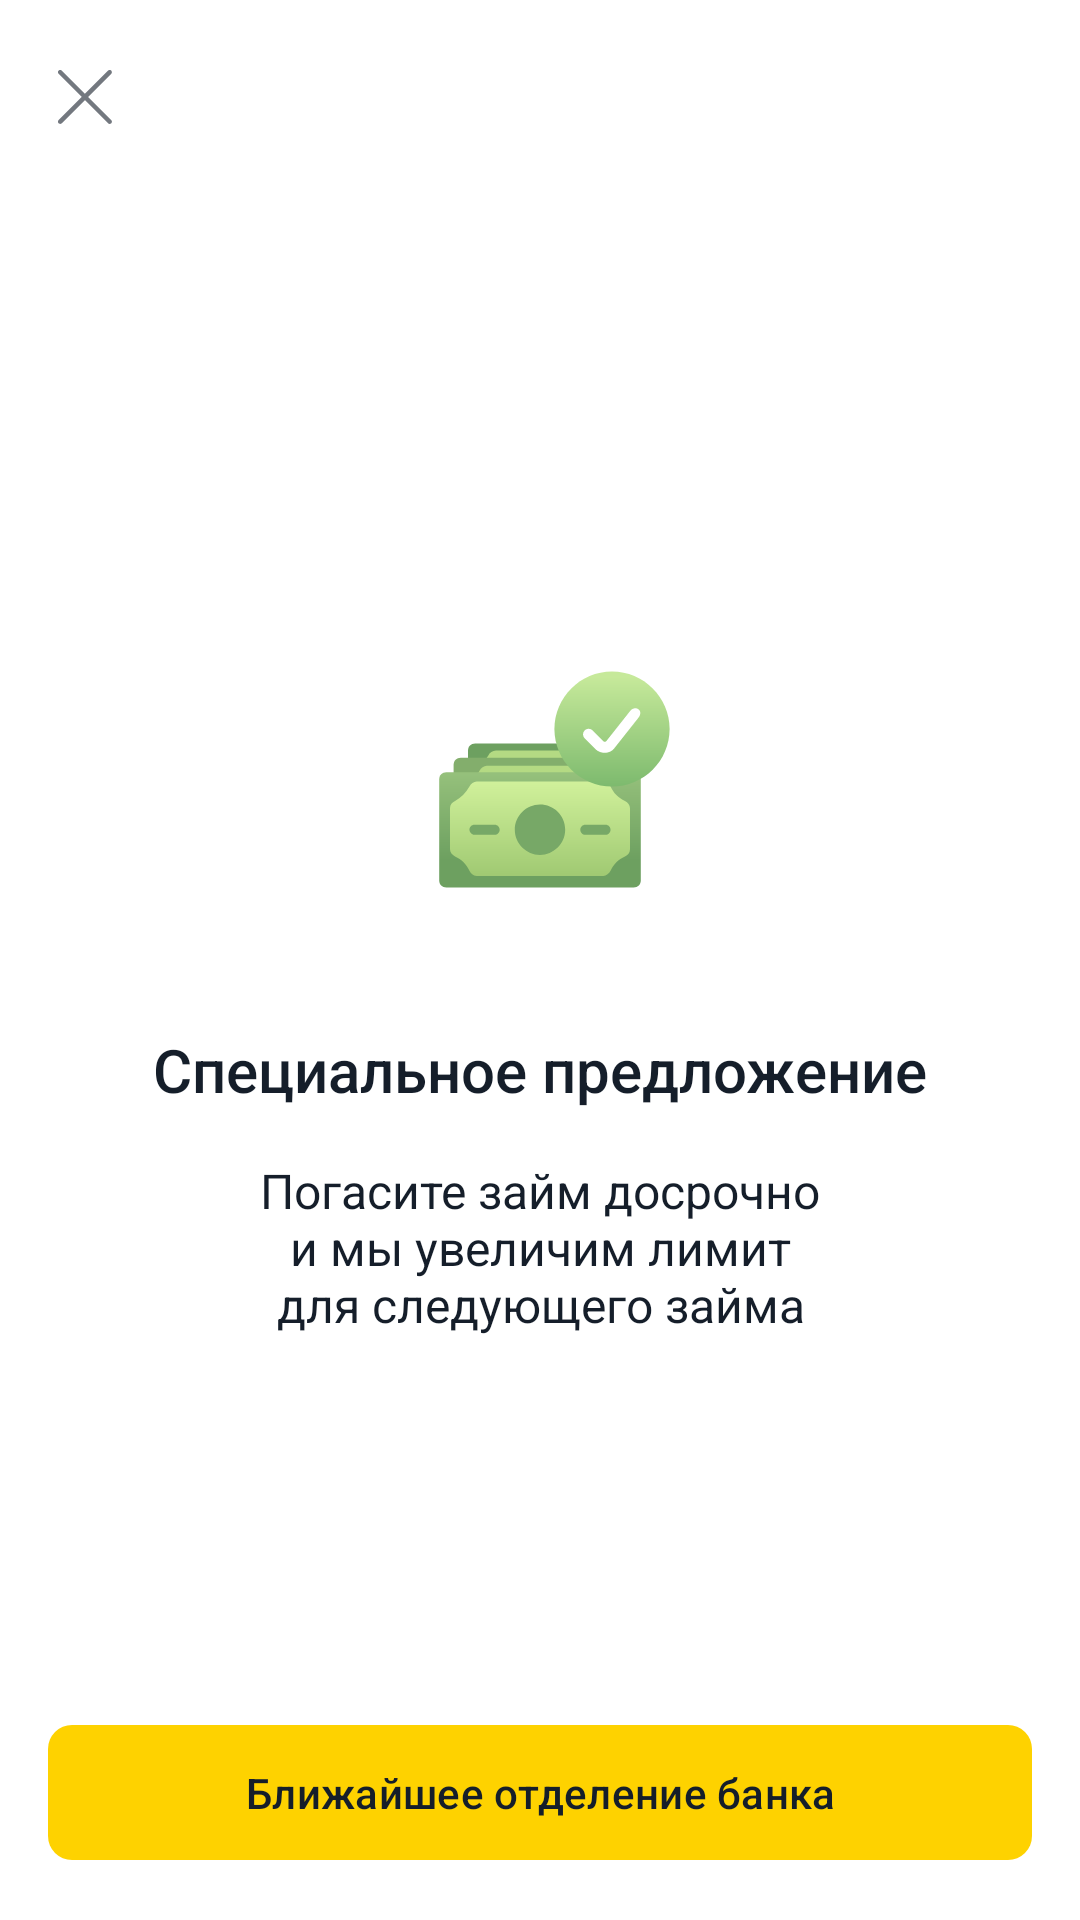

Screen size 1080×1920. Icon name, then its box in pixels as (x1, y1, x2, y2):
approve money: (439, 671, 670, 888)
